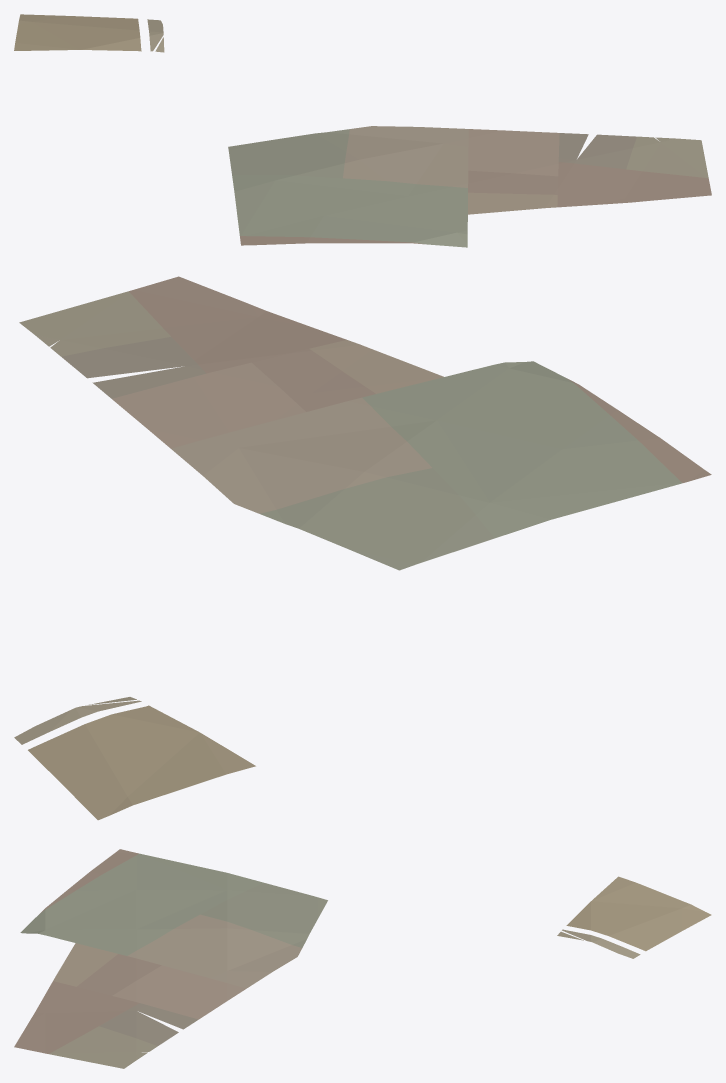
The model's file is farm_10_14_soil.glb.
3 renders of one model, top to bottom at view 1: azimuth 30°, elevation 25°; view 2: azimuth 150°, elevation 25°; view 3: azimuth 270°, elevation 25°, orthographic. The views are drawn at different scales.
Parts seen in each view (by area): view 1: geometry_0; view 2: geometry_0; view 3: geometry_0.
Boxes of the visible parts, x1,y1,x2,y2 form: geometry_0: [14, 14, 711, 247]; geometry_0: [14, 276, 711, 820]; geometry_0: [14, 849, 711, 1068].
Bounding box in the file's own units: 440 × 22.62 × 614.
